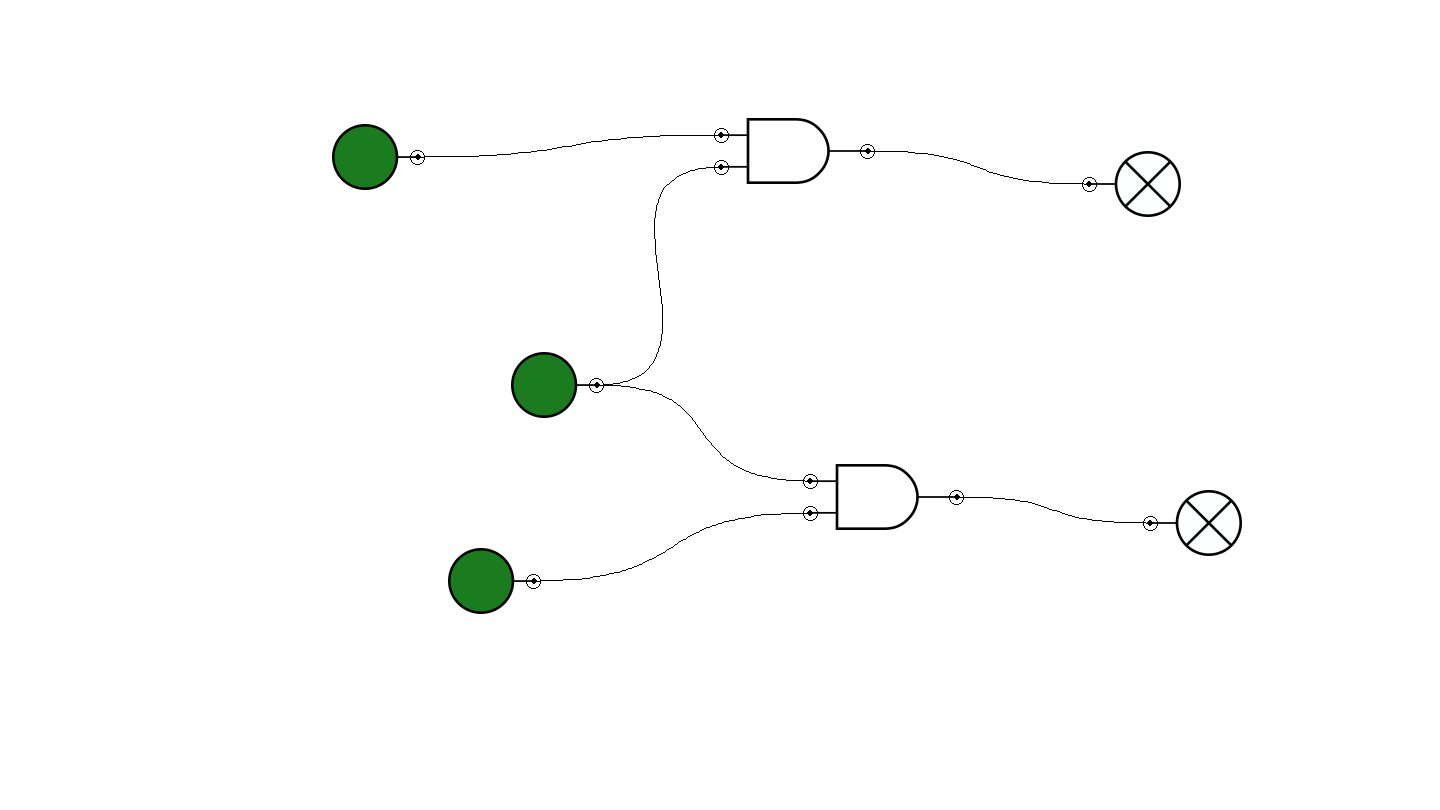and: (803, 464, 964, 530), (714, 118, 875, 184)
bulb: (1143, 490, 1242, 556), (1082, 151, 1181, 217)
switch_True: (332, 124, 425, 190), (511, 352, 604, 418), (448, 548, 541, 614)
